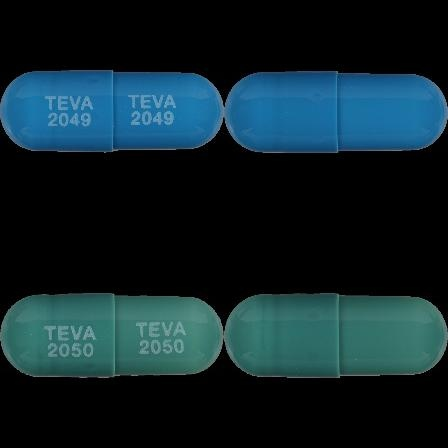0093-2049: (0, 0, 224, 224)
